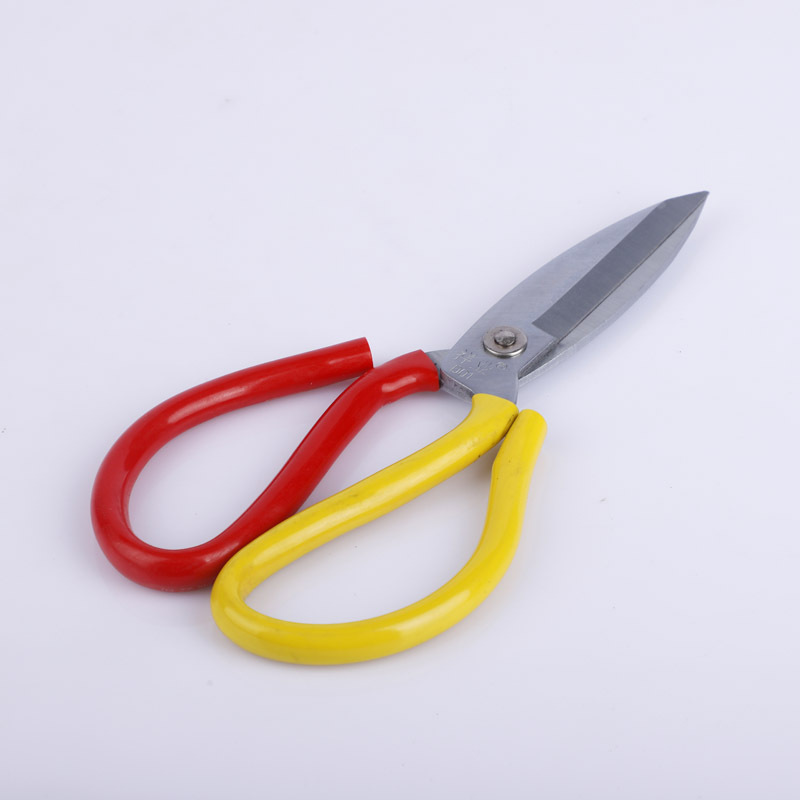scissors: (79, 189, 717, 673)
